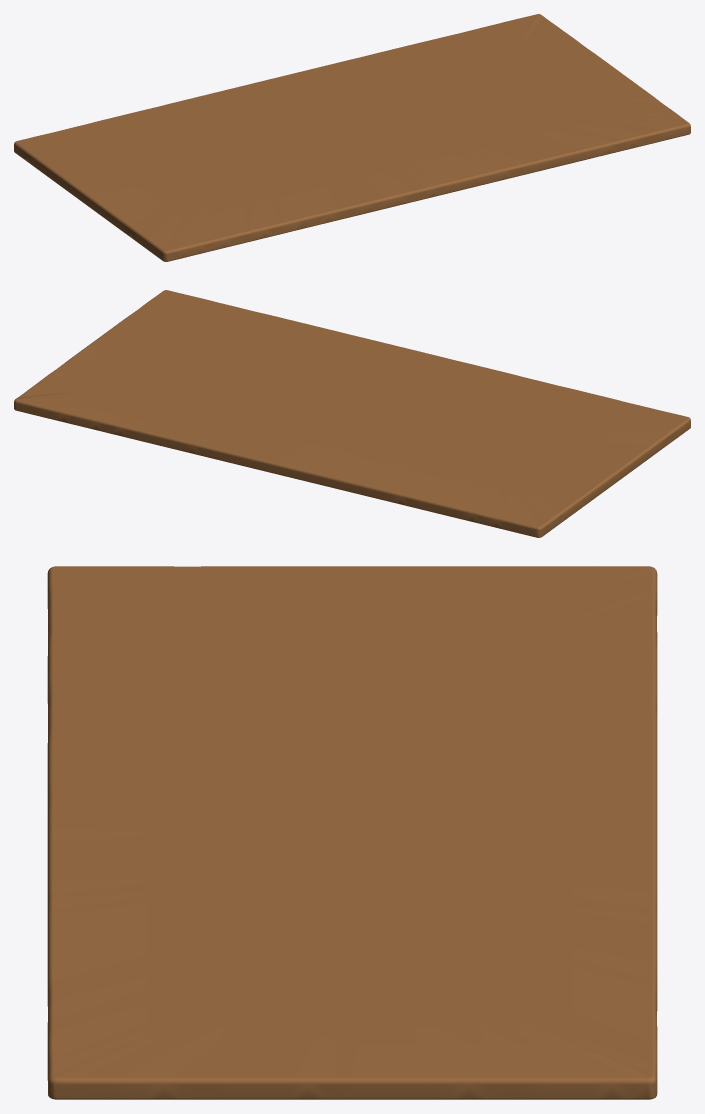
The model's file is SM_Desk.glb.
3 views of the same model, one above another, from view 1: azimuth 30°, elevation 25°; view 2: azimuth 150°, elevation 25°; view 3: azimuth 270°, elevation 25° (orthographic). The views are drawn at different scales.
Parts seen in each view (by area): view 1: SM_Desk; view 2: SM_Desk; view 3: SM_Desk.
Boxes of the visible parts, box(x1,y1,x2,y2) form: SM_Desk: box(14, 14, 690, 261); SM_Desk: box(14, 290, 690, 537); SM_Desk: box(47, 566, 657, 1099).
Size of the model in its own units: 1.6 by 0.03 by 0.8.
